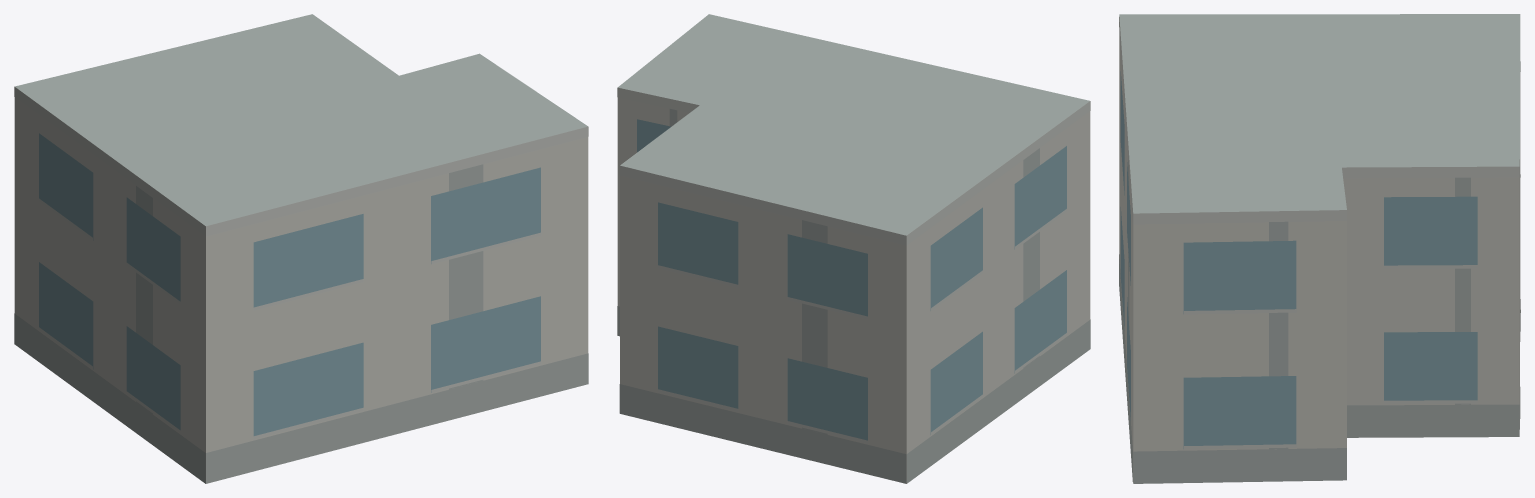
The model's file is survey-upis-32878635.glb.
3 views of the same model, side by side, from view 1: azimuth 30°, elevation 25°; view 2: azimuth 150°, elevation 25°; view 3: azimuth 270°, elevation 25° (orthographic). The views are drawn at different scales.
Parts seen in each view (by area): view 1: survey-upis-32878635.tmp; view 2: survey-upis-32878635.tmp; view 3: survey-upis-32878635.tmp.
Part boxes in pixels (x1,y1,x2,y2): survey-upis-32878635.tmp: [14, 14, 588, 483]; survey-upis-32878635.tmp: [617, 14, 1090, 483]; survey-upis-32878635.tmp: [1119, 14, 1520, 483].
Bounding box in the file's own units: 9.67 × 6.1 × 8.22.
